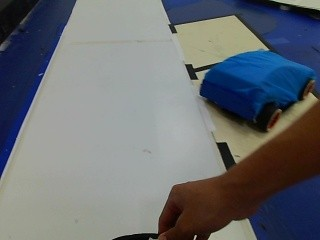car: (194, 40, 308, 126)
